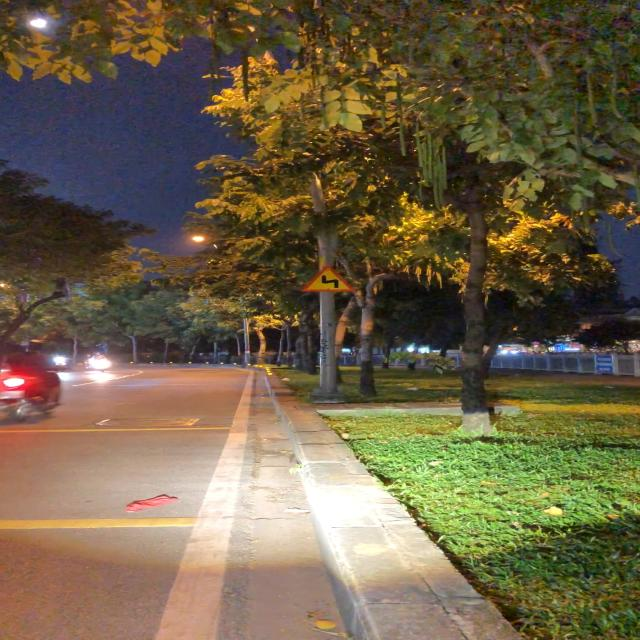Bien bao nhieu cho ngoat nguy hiem lien tiep: (300, 265, 358, 293)
